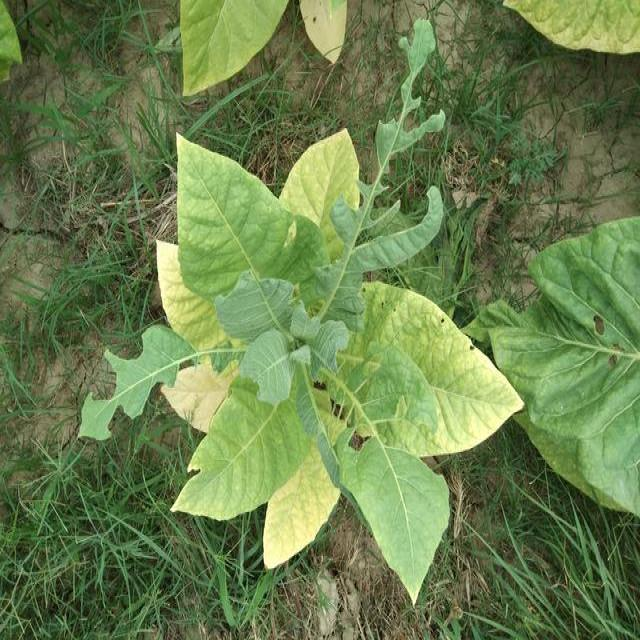crop: (150, 121, 532, 608)
